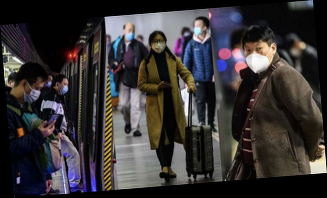with_mask: (243, 42, 273, 74), (23, 84, 46, 103), (151, 35, 167, 53), (125, 26, 136, 40), (60, 80, 70, 94), (194, 22, 203, 36), (45, 77, 54, 88)
